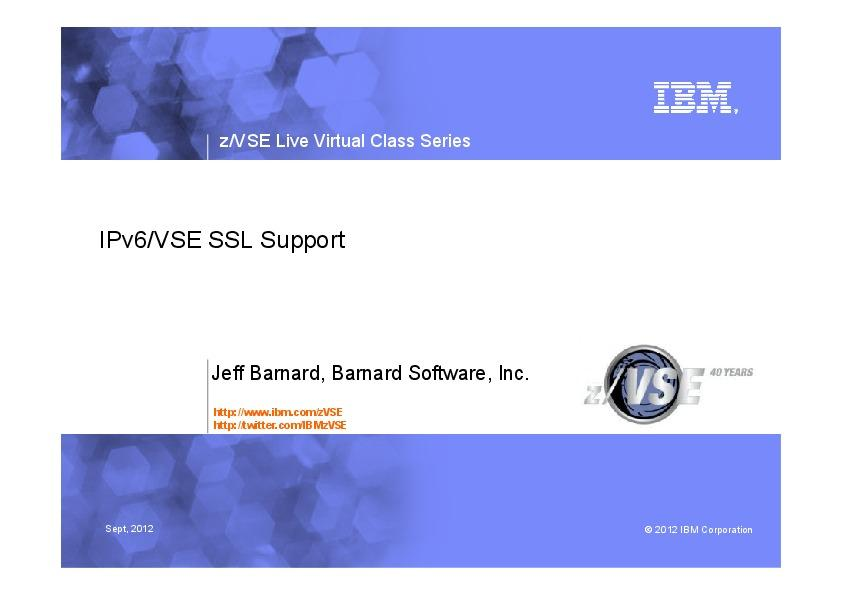subtitle: (203, 343, 542, 425), (83, 215, 569, 265)
title: (202, 115, 489, 158)
